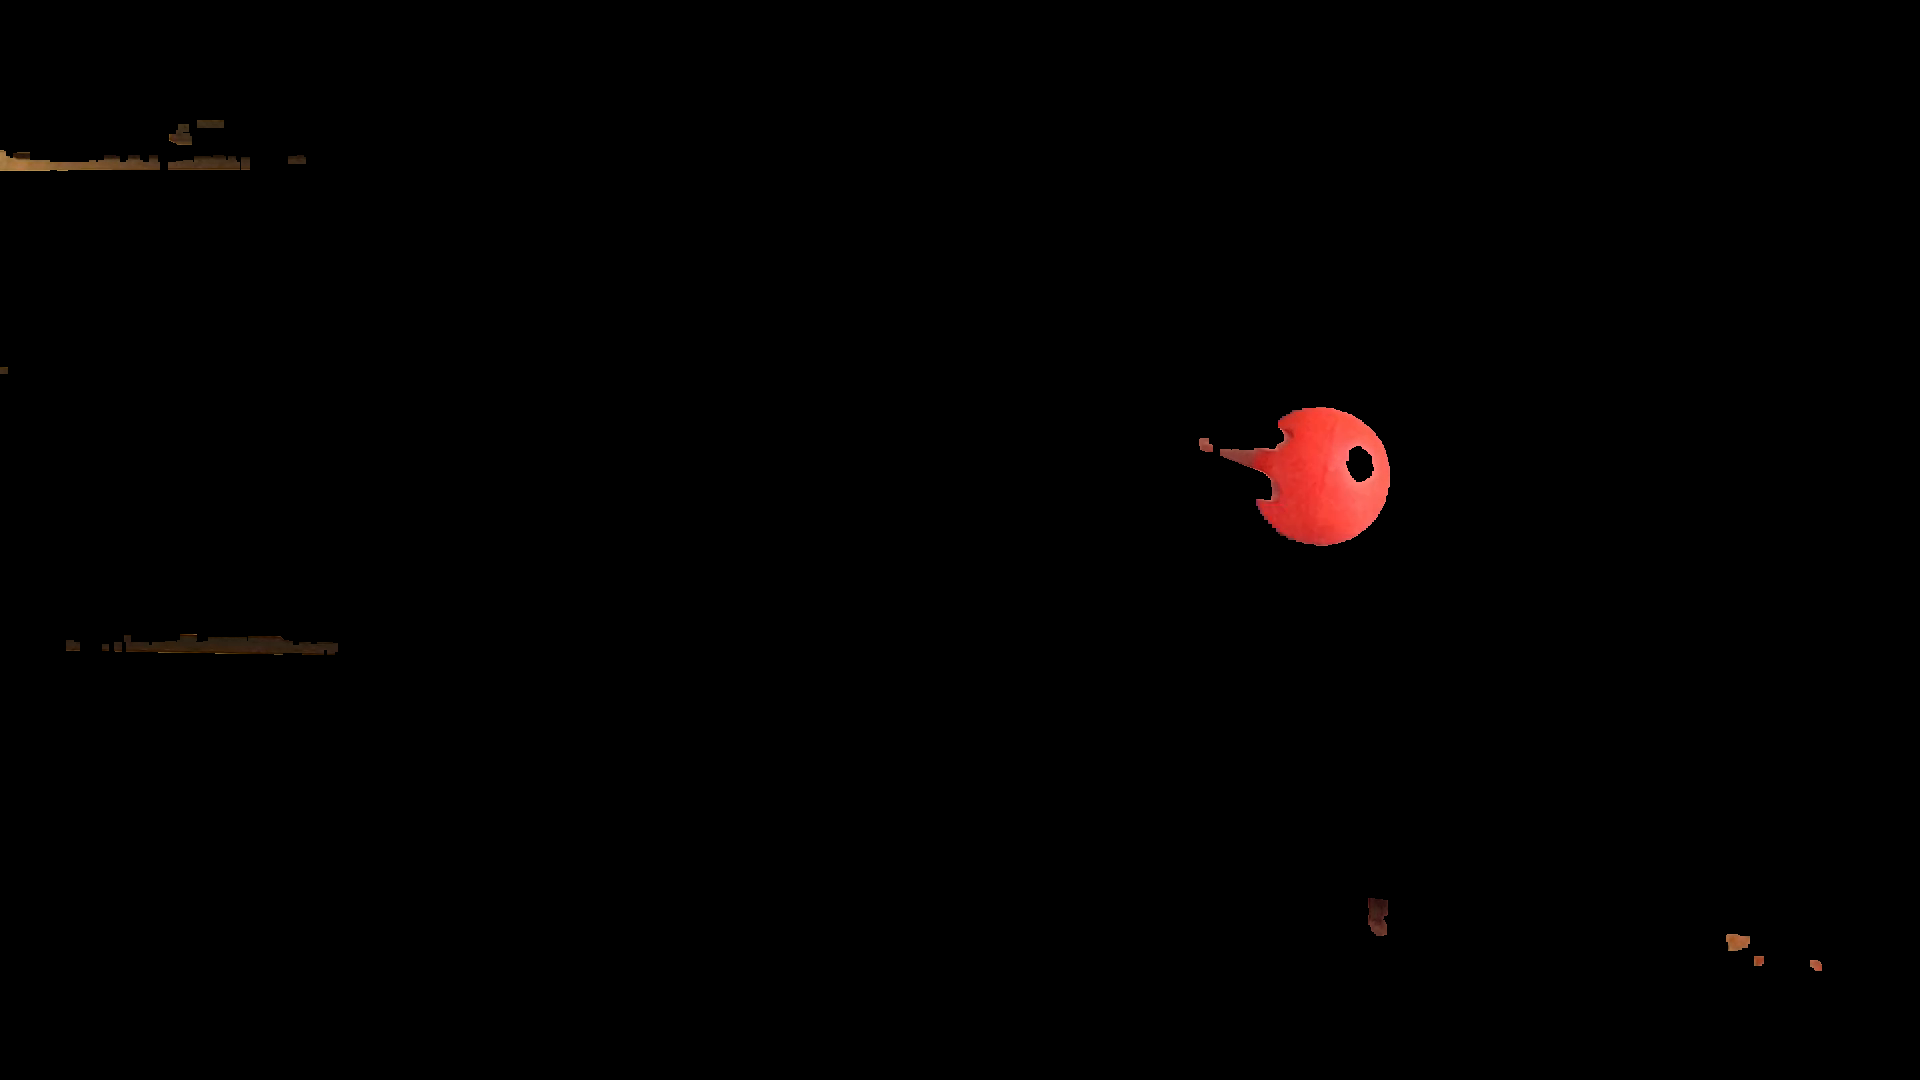Ball: (1258, 400, 1394, 547)
